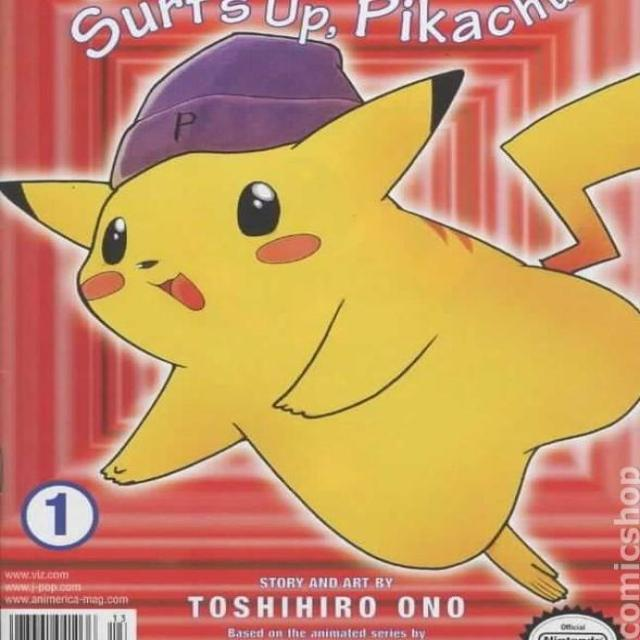pikachu: (0, 66, 640, 604)
